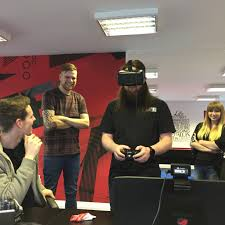oculus: (117, 67, 146, 87)
